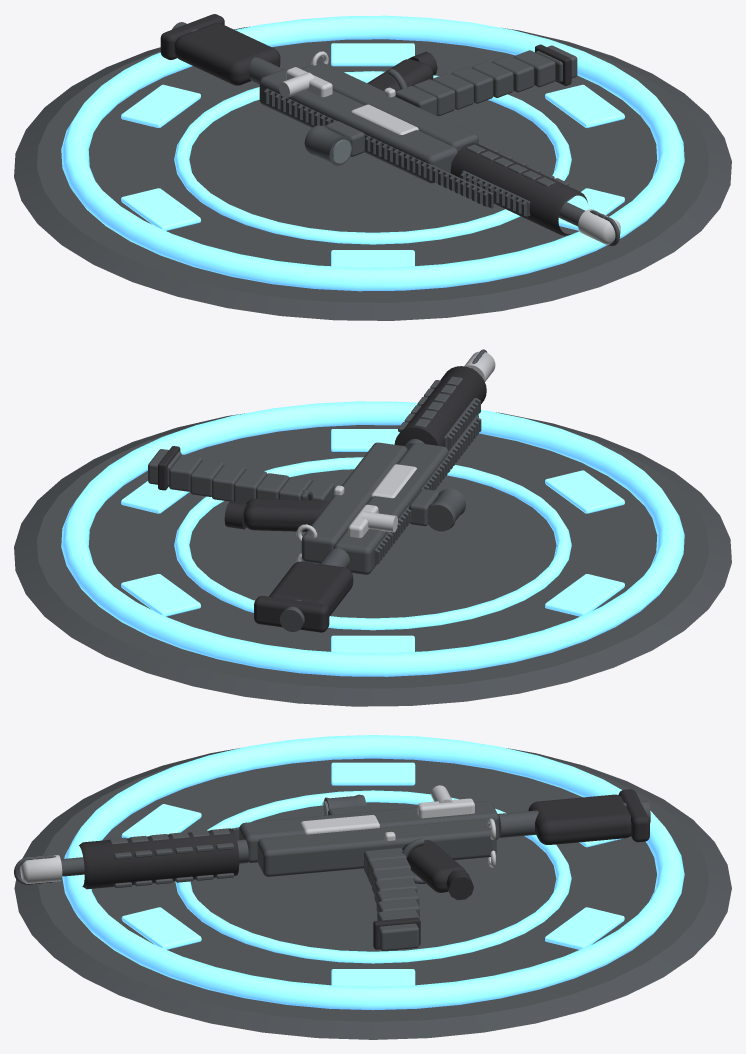
File: battle-royale-town-and-airfield-loot-assault-rifle-rar-4644cc5d__28220.glb
The picture shows the model from 3 angles, top to bottom: view 1: azimuth 30°, elevation 25°; view 2: azimuth 150°, elevation 25°; view 3: azimuth 270°, elevation 25°; orthographic projection.
Visible parts, largest first — view 1: loot-assault-rifle-rare, magazine/gunmetal, bolt, magazine/black; view 2: loot-assault-rifle-rare, magazine/gunmetal, bolt; view 3: loot-assault-rifle-rare, magazine/gunmetal, bolt, magazine/black.
Part boxes in pixels (x1,y1,x2,y2): loot-assault-rifle-rare: [14, 14, 731, 320]; magazine/gunmetal: [395, 45, 577, 116]; bolt: [278, 67, 332, 97]; magazine/black: [535, 44, 571, 85]; loot-assault-rifle-rare: [14, 349, 731, 706]; magazine/gunmetal: [148, 449, 334, 503]; bolt: [348, 504, 397, 537]; loot-assault-rifle-rare: [14, 735, 731, 1039]; magazine/gunmetal: [364, 848, 419, 950]; bolt: [417, 785, 474, 818]; magazine/black: [373, 917, 420, 949].
Bounding box in the file's own units: 0.94 × 0.1098 × 0.9406.
